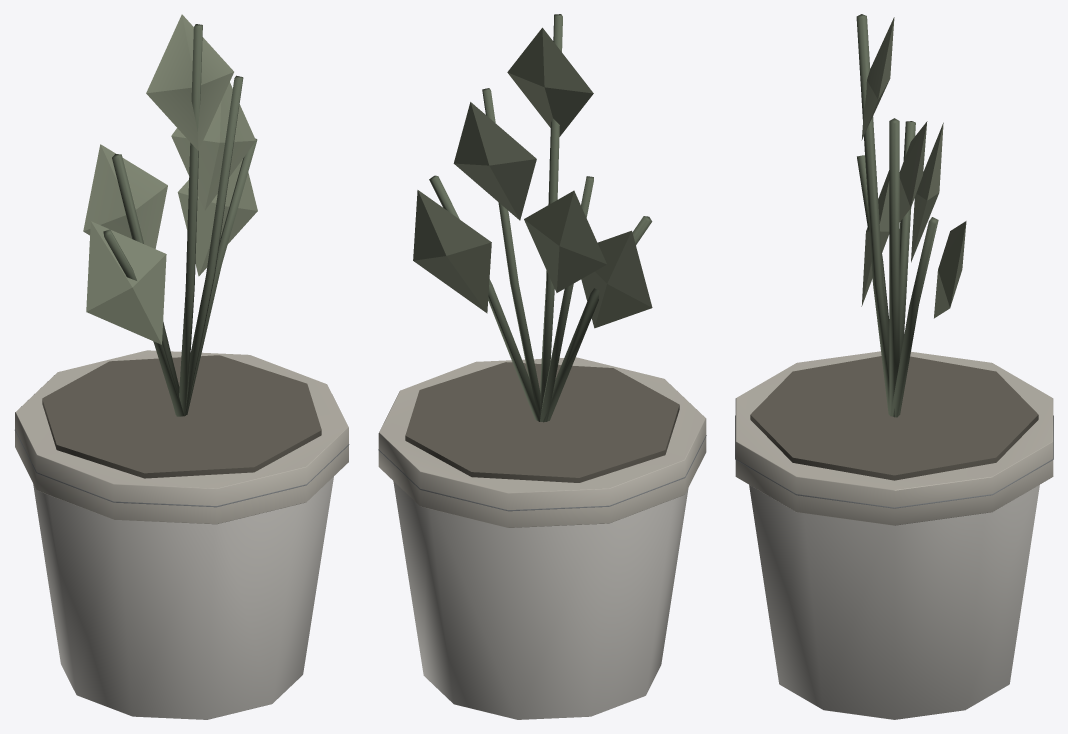
The model's file is plant_pot_low.glb.
3 views of the same model, side by side, from view 1: azimuth 30°, elevation 25°; view 2: azimuth 150°, elevation 25°; view 3: azimuth 270°, elevation 25° (orthographic).
Bounding box in the file's own units: 1.02 × 2.2 × 0.9739.
